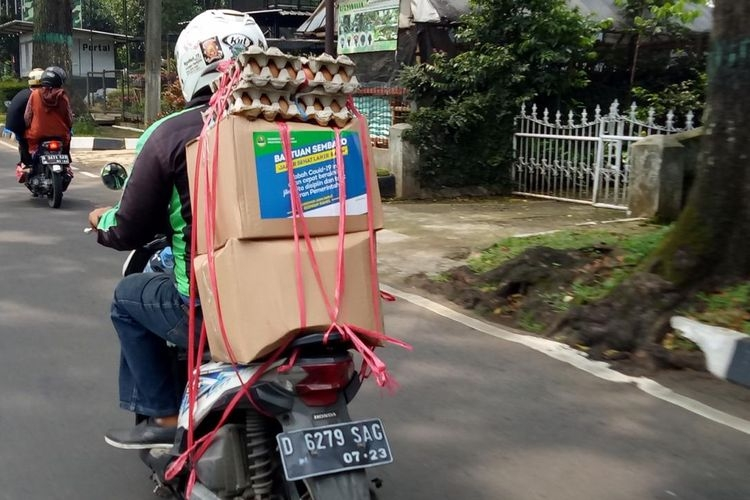plate: (280, 423, 388, 477)
